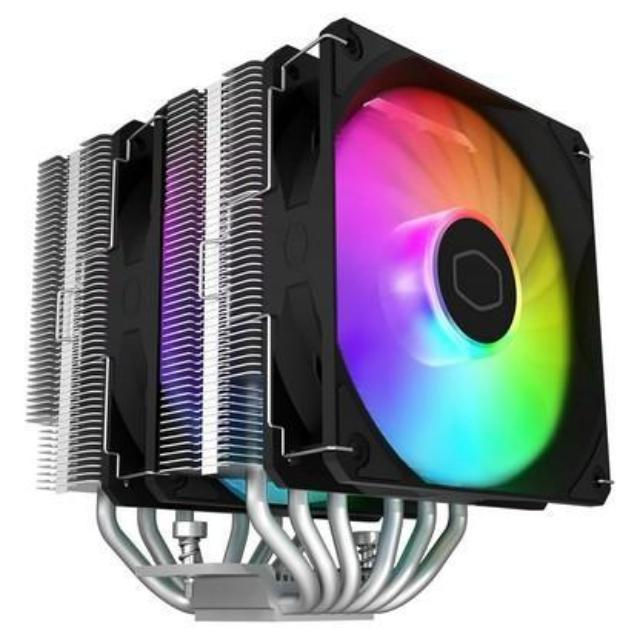CPU_Fan: (23, 19, 612, 610)
